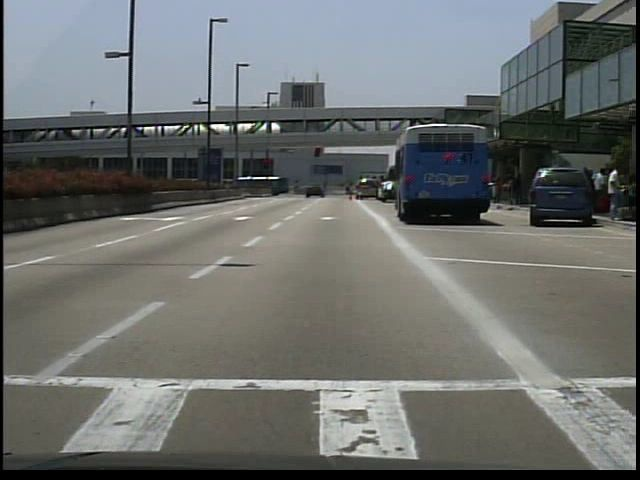person: (607, 162, 626, 220), (514, 170, 526, 205), (593, 166, 609, 190), (346, 182, 357, 197), (321, 184, 330, 199)
